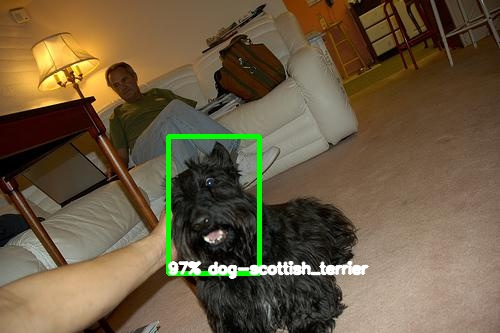dog-scottish_terrier: (170, 141, 243, 252)
